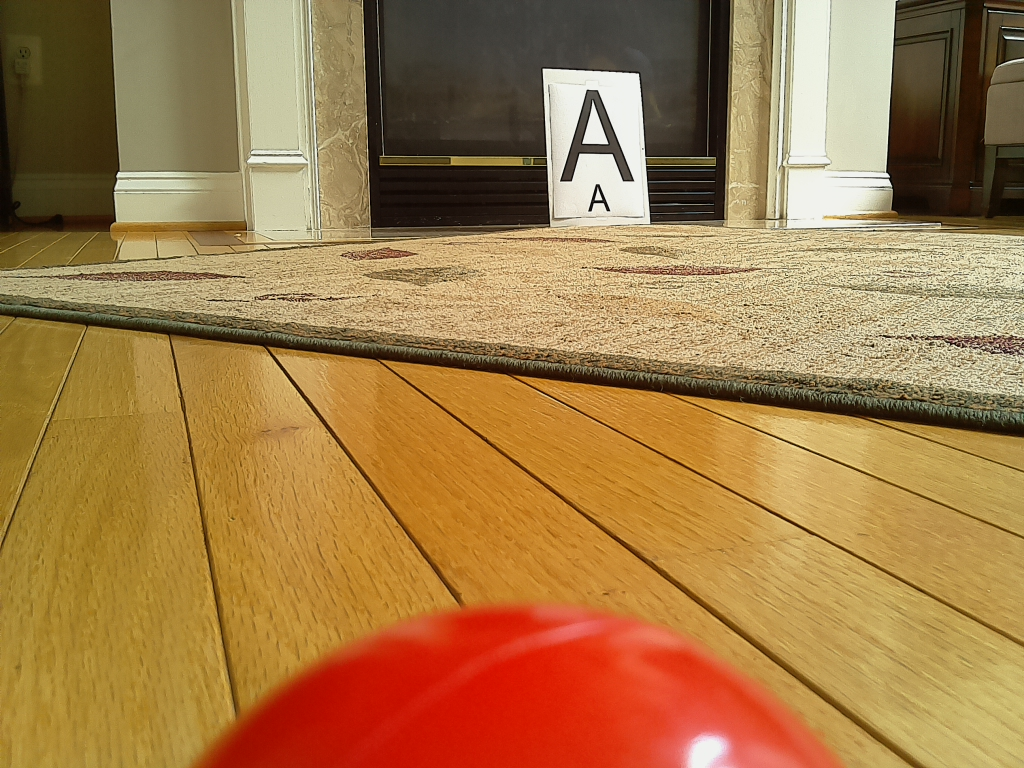letter: (561, 89, 635, 183)
